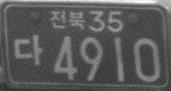0: (133, 36, 161, 82)
1: (112, 36, 127, 84)
3: (87, 10, 104, 31)
4: (53, 35, 78, 81)
5: (107, 9, 123, 32)
9: (79, 36, 104, 82)
다: (14, 34, 44, 67)
전북_O: (49, 9, 86, 31)
